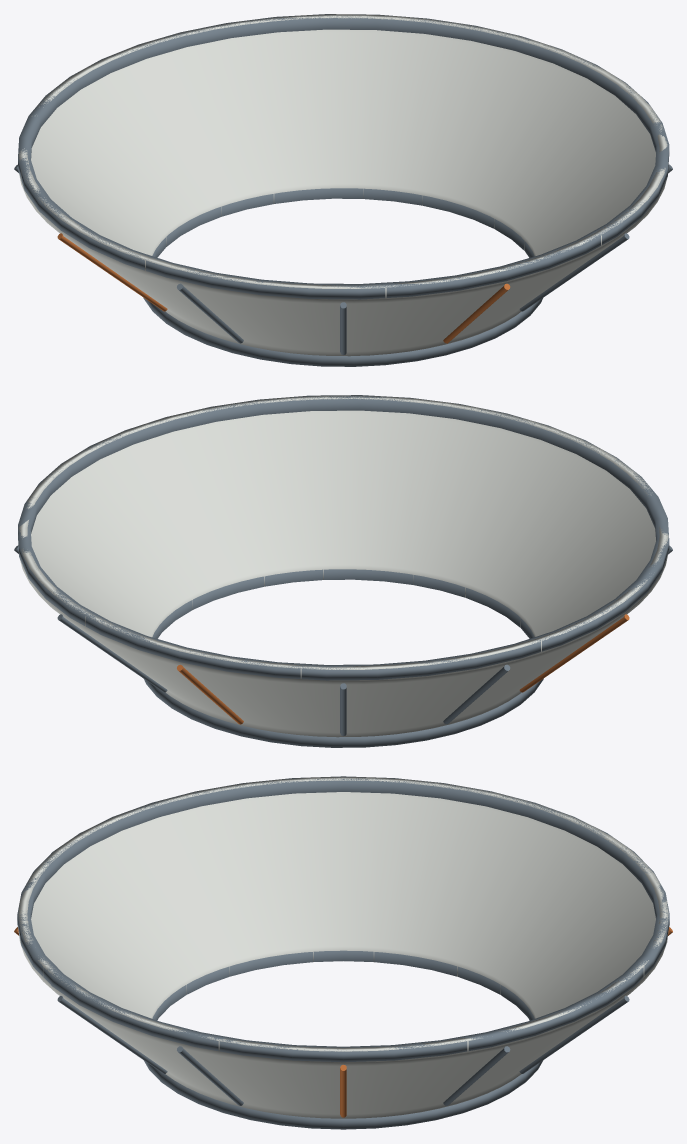
File: jugre_adapter_250_400.glb
3 renders of one model, top to bottom at view 1: azimuth 30°, elevation 25°; view 2: azimuth 150°, elevation 25°; view 3: azimuth 270°, elevation 25°, orthographic.
Visible parts, largest first — view 1: jugre_adapter_250_400.mesh_Pale_thermal_blanket, jugre_adapter_250_400.mesh_Machined_steel, jugre_adapter_250_400.mesh_Spray-on_insulation; view 2: jugre_adapter_250_400.mesh_Pale_thermal_blanket, jugre_adapter_250_400.mesh_Machined_steel, jugre_adapter_250_400.mesh_Spray-on_insulation; view 3: jugre_adapter_250_400.mesh_Pale_thermal_blanket, jugre_adapter_250_400.mesh_Machined_steel.
Boxes of the visible parts, x1,y1,x2,y2 form: jugre_adapter_250_400.mesh_Pale_thermal_blanket: (18,14,667,356); jugre_adapter_250_400.mesh_Machined_steel: (14,14,672,366); jugre_adapter_250_400.mesh_Spray-on_insulation: (57,233,510,343); jugre_adapter_250_400.mesh_Pale_thermal_blanket: (18,395,668,737); jugre_adapter_250_400.mesh_Machined_steel: (14,395,672,747); jugre_adapter_250_400.mesh_Spray-on_insulation: (177,614,629,724); jugre_adapter_250_400.mesh_Pale_thermal_blanket: (18,777,668,1118); jugre_adapter_250_400.mesh_Machined_steel: (17,776,669,1129).
Size of the model in its own units: 4.05 by 0.875 by 4.05.
